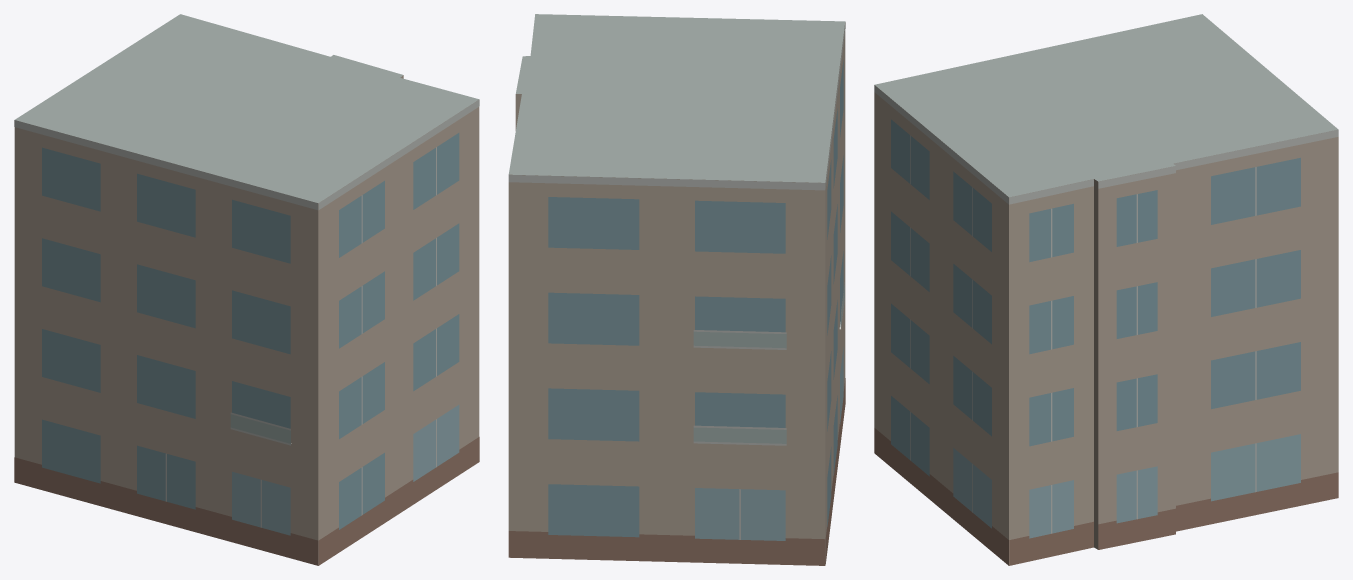
Rendered from survey-upis-32967780.glb.
3 views of the same model, side by side, from view 1: azimuth 30°, elevation 25°; view 2: azimuth 150°, elevation 25°; view 3: azimuth 270°, elevation 25° (orthographic). The views are drawn at different scales.
Visible parts, largest first — view 1: survey-upis-32967780.tmp; view 2: survey-upis-32967780.tmp; view 3: survey-upis-32967780.tmp.
Part boxes in pixels (bbox=[...]): survey-upis-32967780.tmp: bbox=[14, 14, 479, 565]; survey-upis-32967780.tmp: bbox=[508, 14, 845, 565]; survey-upis-32967780.tmp: bbox=[874, 14, 1338, 565].
Size of the model in its own units: 13.25 by 12.4 by 14.17.
